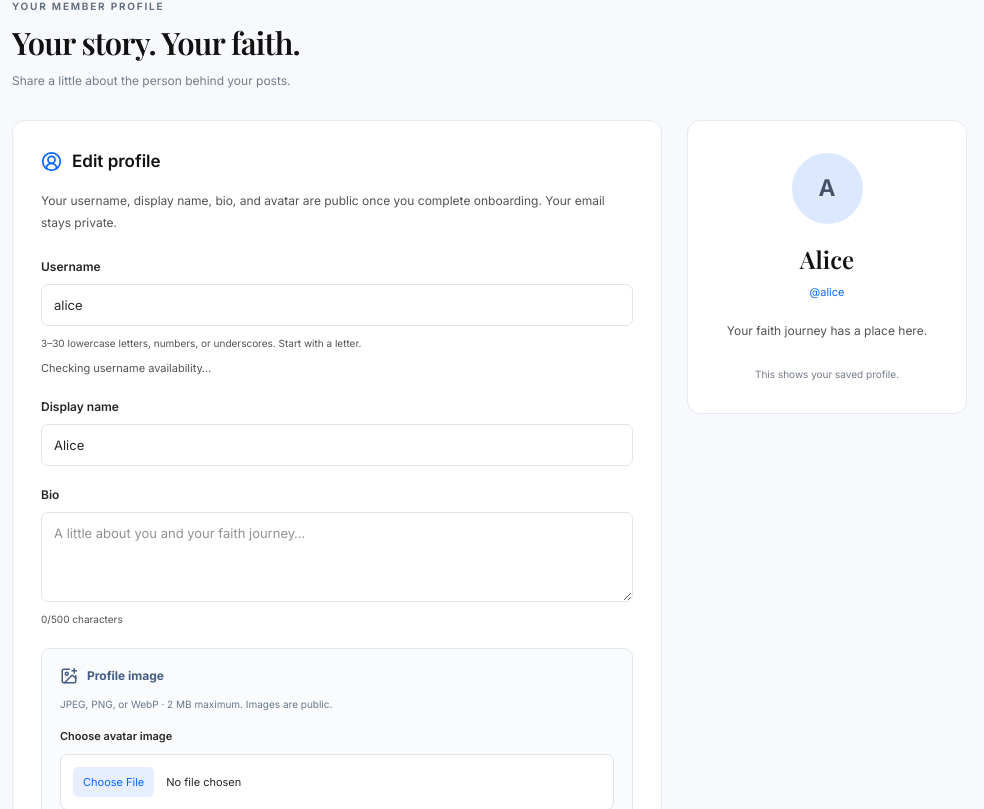
secure profile editing UI › saves the authenticated profile and updates the shared profile state
The image size is (984, 809).
Type "My faith journey" into the text box labelled "Bio 0/500 characters".
click(337, 557); type("My faith journey")  # box [41,512,633,602]
(page scrolled)
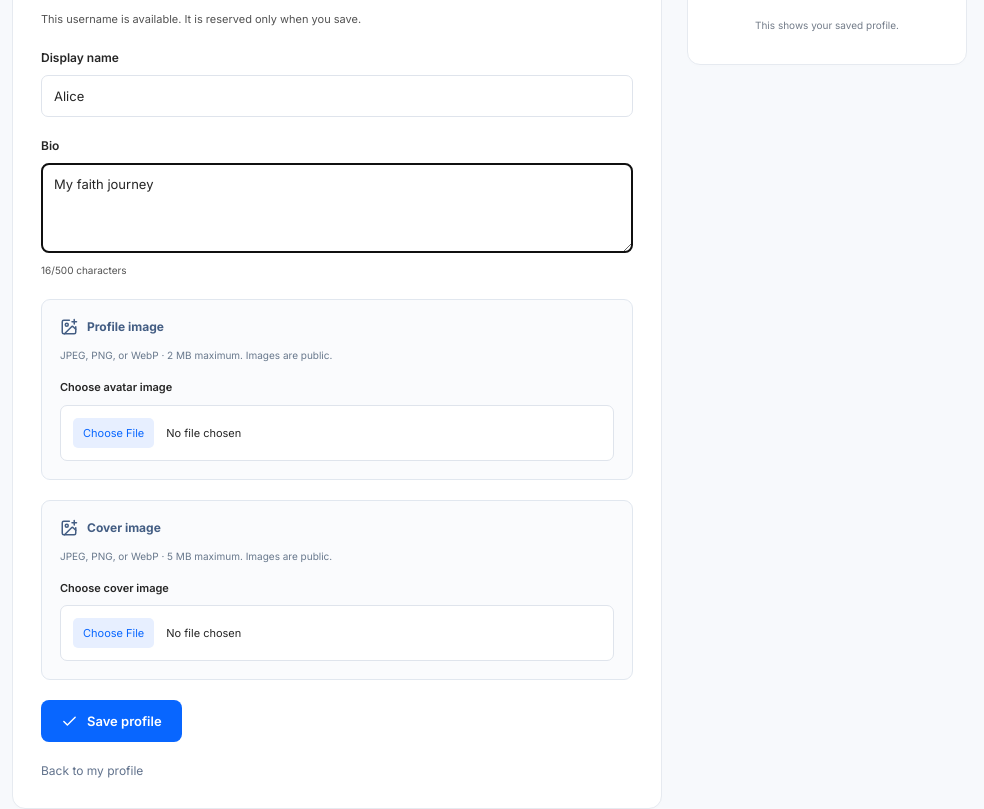
Click the button "Save profile".
click(111, 721)  # box [41,700,182,742]
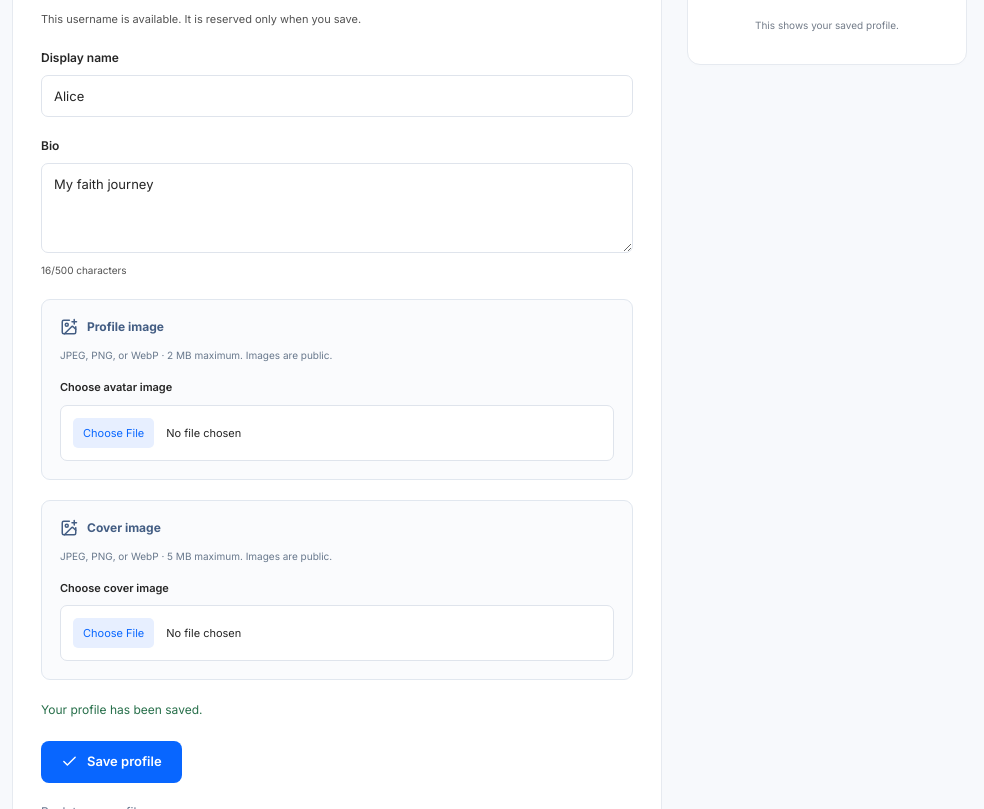
Now the text "Your profile has been saved." is shown, box [41,702,202,717]
